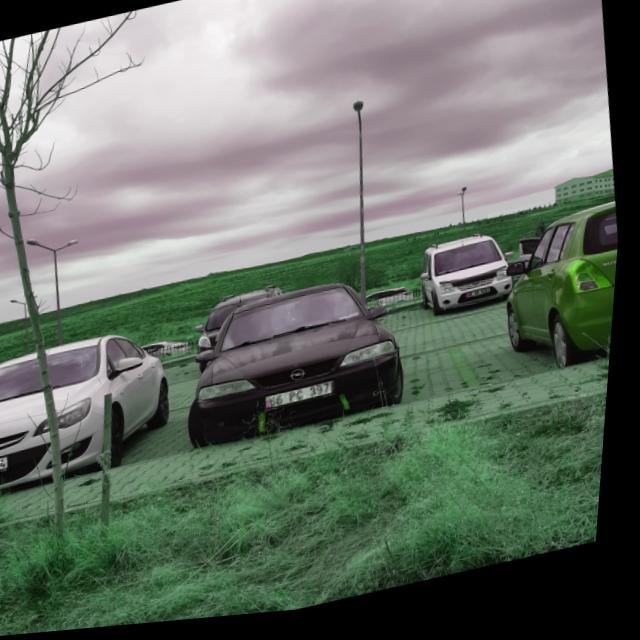license_plate: (272, 388, 342, 413), (0, 459, 16, 474)
